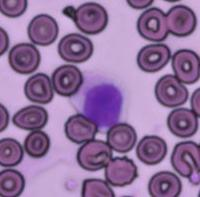L: (70, 68, 131, 132)
